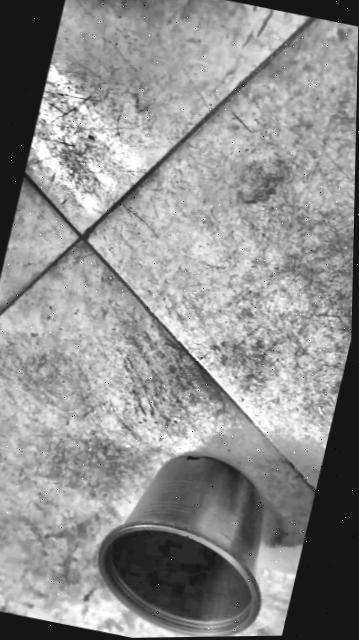pot: (82, 437, 291, 639)
